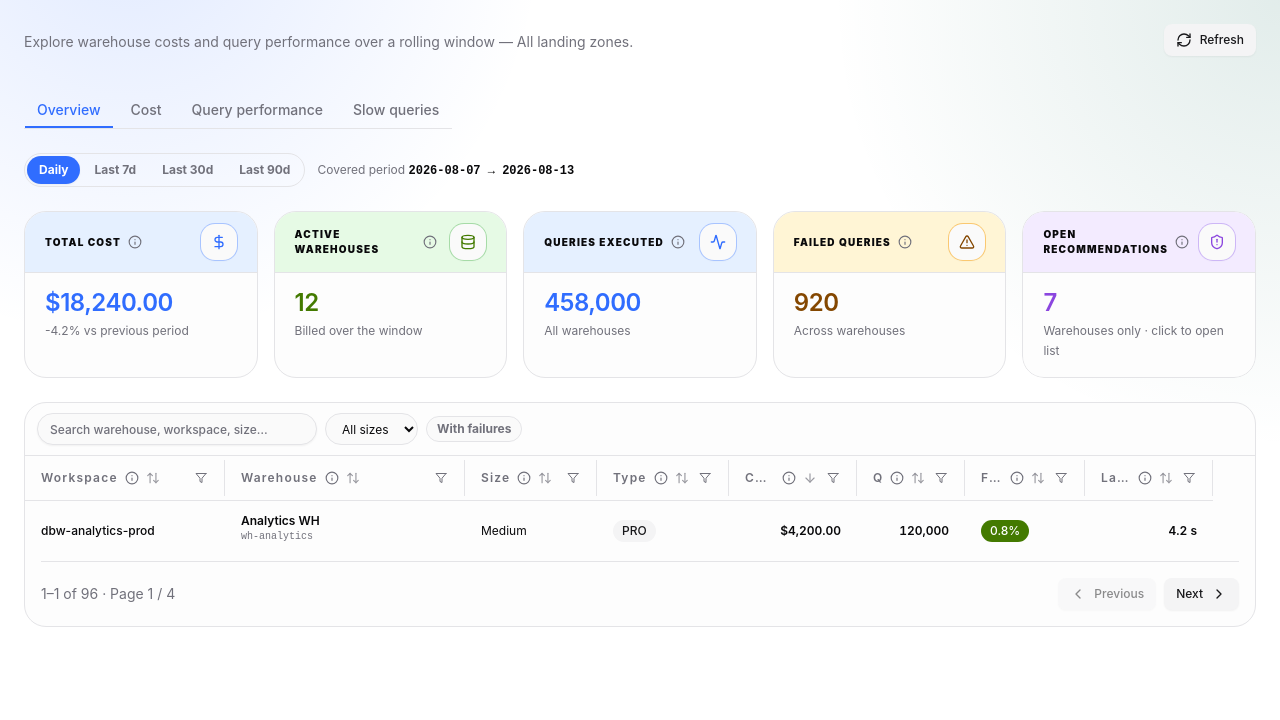
Test: ComputeSqlWarehouses › renders a dash, not $0, when a warehouse has no previous window
Click the tab "Cost". click: (146,110)
box: x1=118 y1=92 x2=174 y2=128
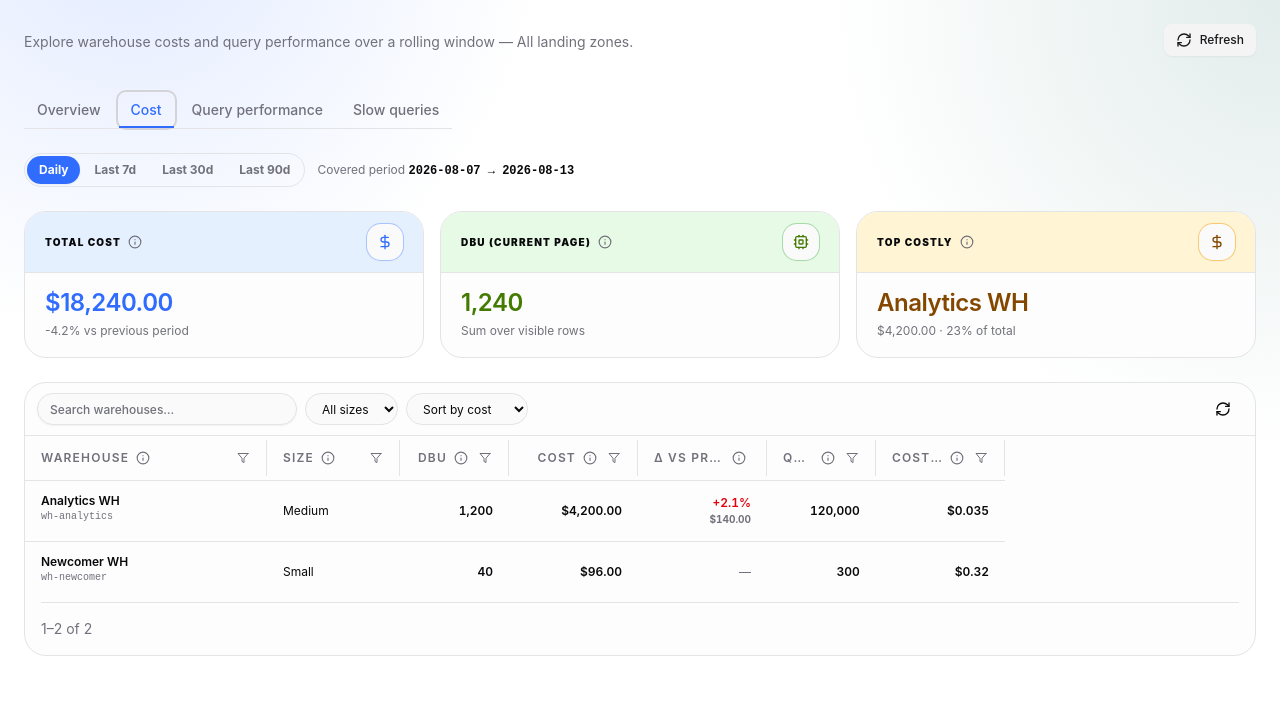
Now the text "—" is shown, box x1=739 y1=564 x2=751 y2=578
